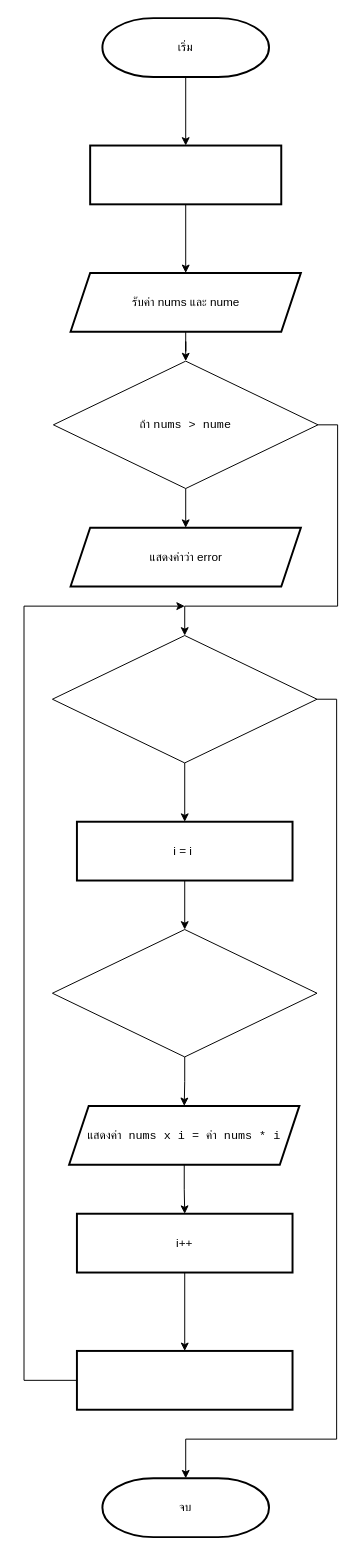
Some shapes in this 363 by 1554 pixel diagram are drawn without their labels. The box of each missing label's shape, as (x1, y1, x2, y2) in pixels:
i <= 9: (51, 929, 317, 1057)
nums++: (75, 1349, 293, 1410)
กำหนด nums = 0 , nume = 0 , i = 1: (89, 144, 282, 205)
ถ้า nums <= nume: (51, 635, 317, 763)
